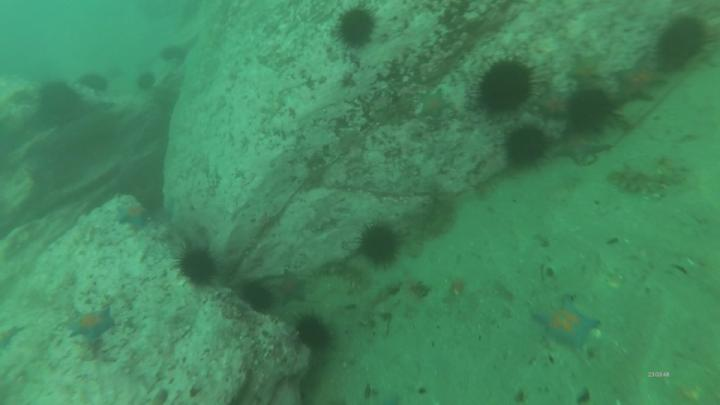echinus: (566, 88, 629, 138), (481, 64, 533, 113), (663, 20, 707, 66), (506, 129, 547, 168), (360, 228, 401, 264), (340, 12, 376, 46), (42, 85, 75, 115), (181, 252, 213, 281), (303, 319, 331, 351), (242, 285, 274, 313), (82, 74, 109, 92), (138, 71, 155, 88), (162, 44, 182, 56)
holothurian: (612, 167, 669, 197), (319, 265, 363, 291)
starfish: (539, 298, 599, 348), (620, 63, 665, 102), (557, 136, 608, 166), (537, 88, 571, 120), (66, 313, 115, 335), (570, 54, 601, 84), (277, 274, 308, 303), (116, 204, 150, 229), (424, 94, 449, 119)
